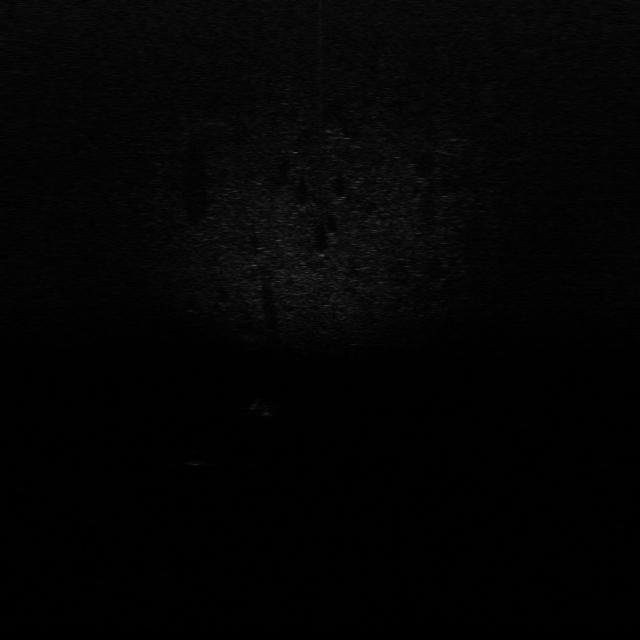ball: (180, 452, 210, 468)
human body: (243, 394, 283, 424)
